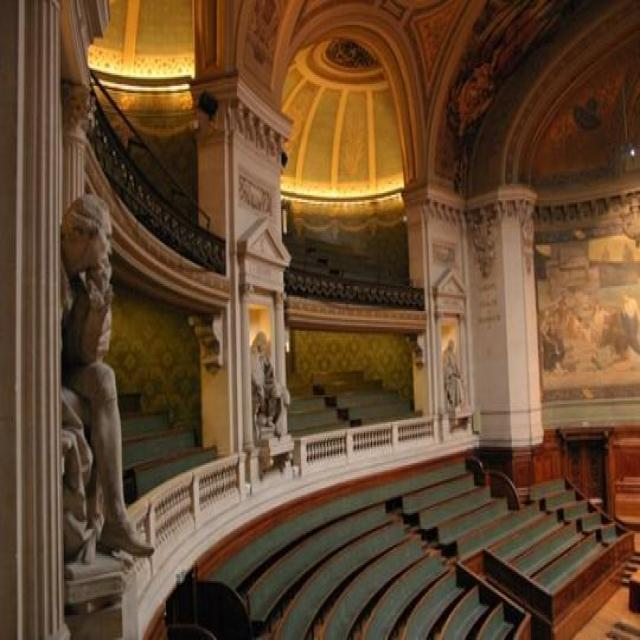chimni: (60, 191, 156, 563)
indoor-plant: (0, 0, 639, 638)
